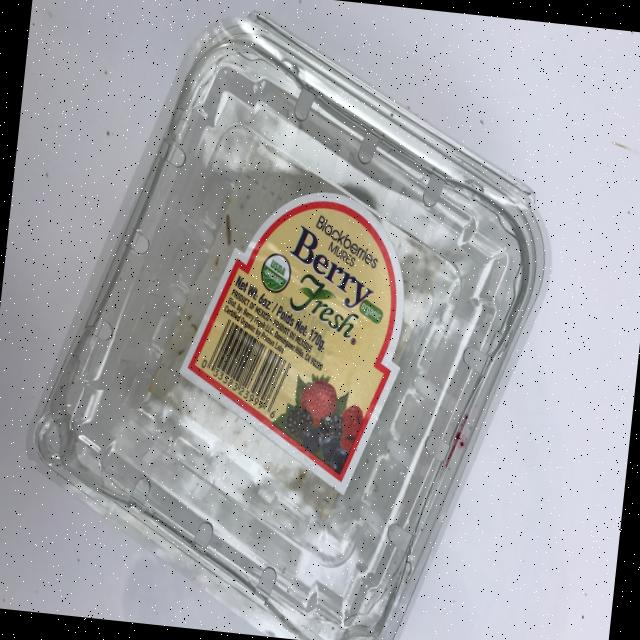plastic: (8, 0, 574, 640)
